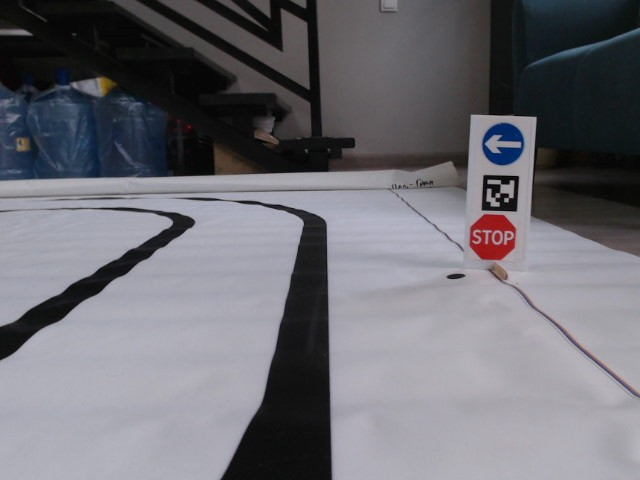Stop: (468, 213, 518, 262)
